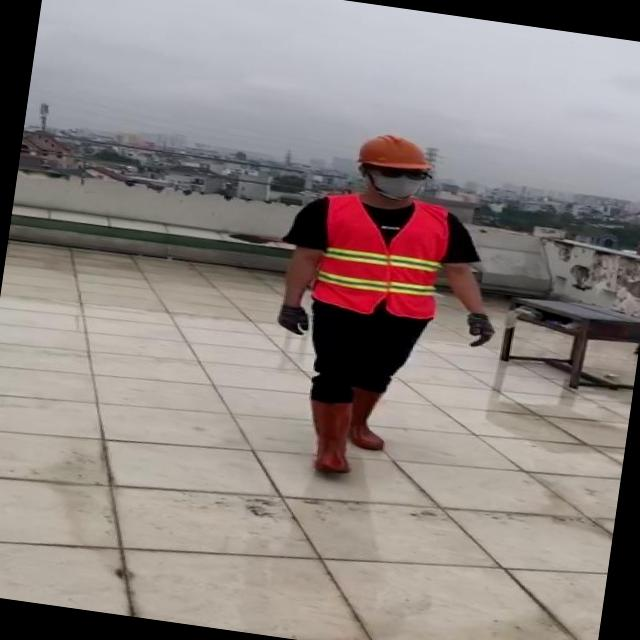boots: (297, 398, 363, 477), (343, 387, 396, 453)
gloves: (446, 296, 518, 361), (266, 286, 326, 352)
helmet: (352, 126, 440, 176)
vest: (312, 185, 456, 322)
